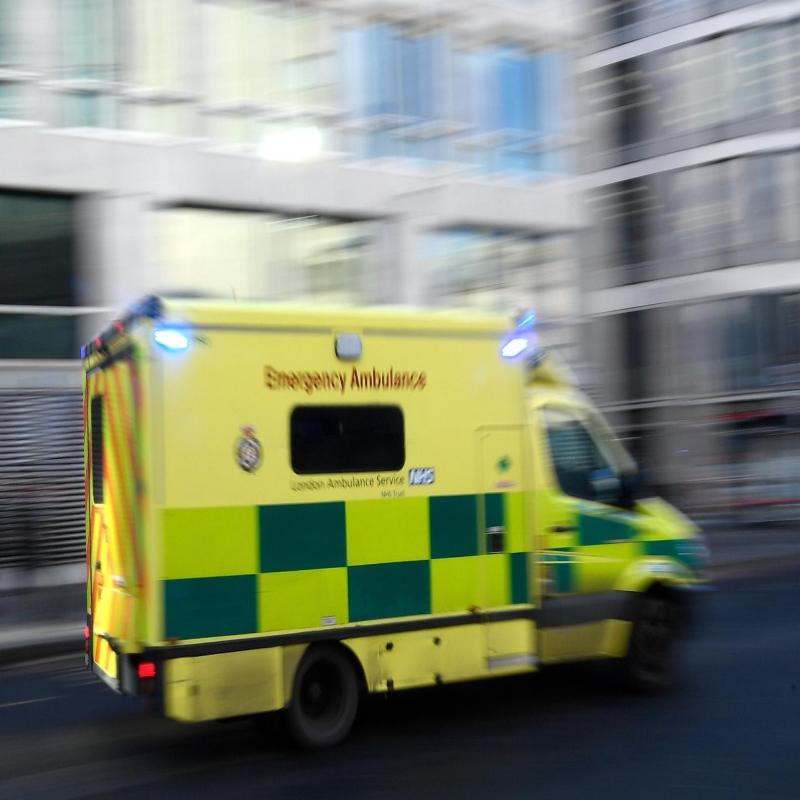ambulance: (73, 245, 742, 763)
